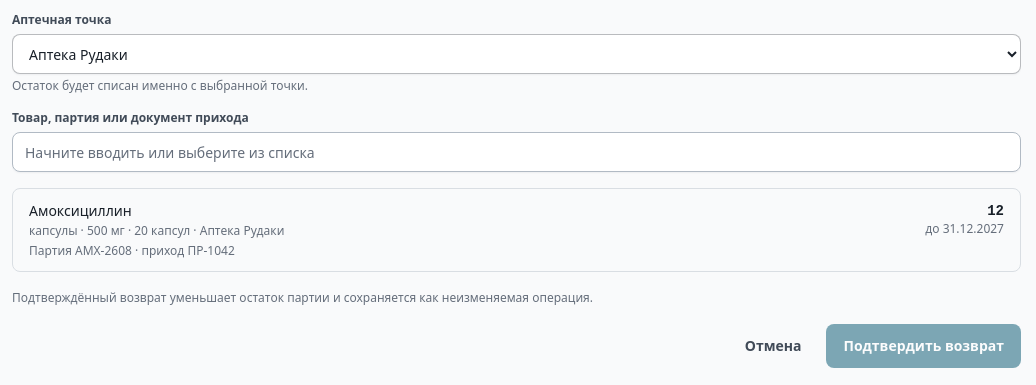
it: SupplierReturnForm › does not expose stale candidates while a new search is debouncing
Expected: the option "Амоксициллин" is shown, [13, 189, 1020, 271]
Type "другая партия" into the dropdown labelled "Товар, партия или документ прихода" at (516, 152), box [12, 132, 1021, 172]
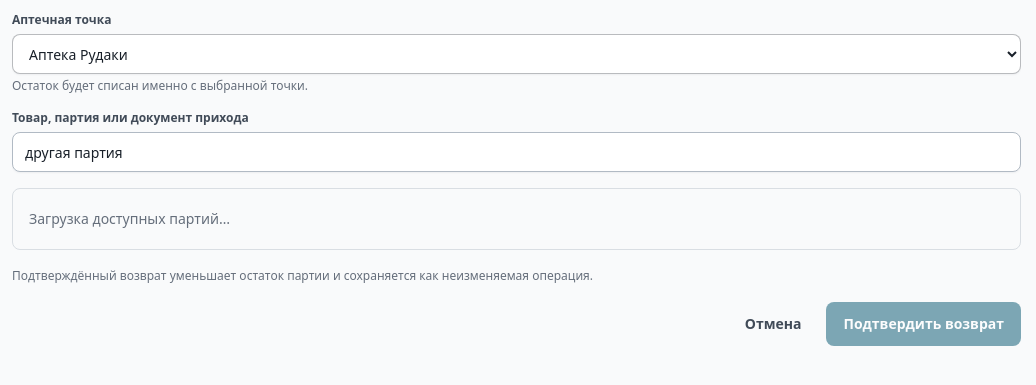
Expected: the option "Амоксициллин" is gone
Expected: the message shows "Загрузка доступных партий", [29, 209, 230, 228]
